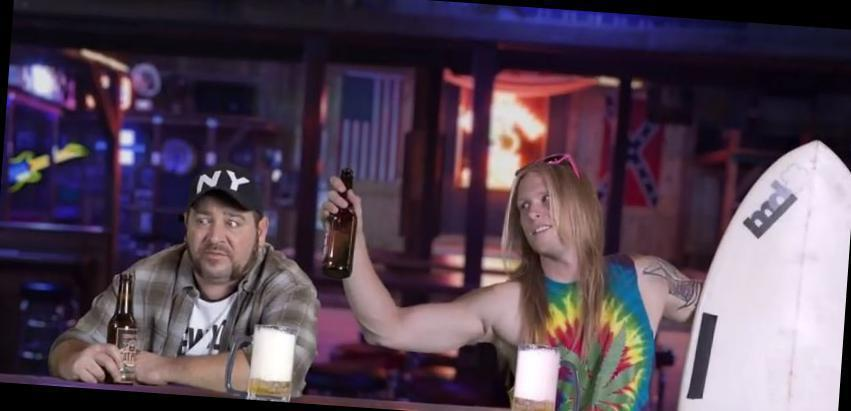Drunk: (189, 201, 248, 275), (516, 177, 565, 254)
